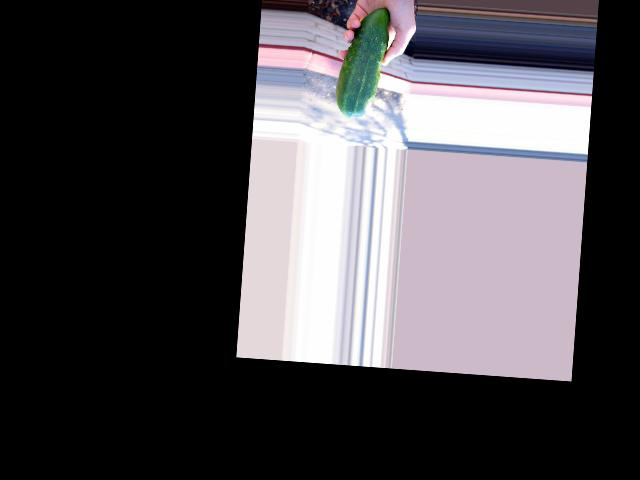cucumber: (333, 5, 390, 119)
